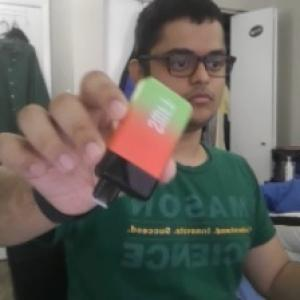Swift-E-Ciggirate: (89, 76, 195, 208)
